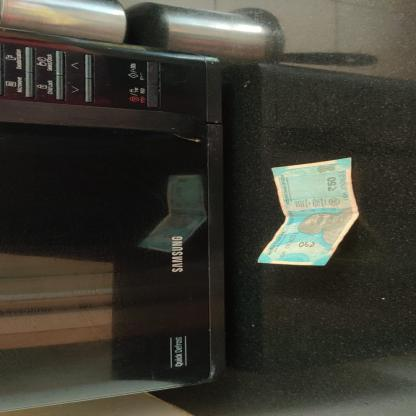New50Front: (254, 154, 364, 268)
